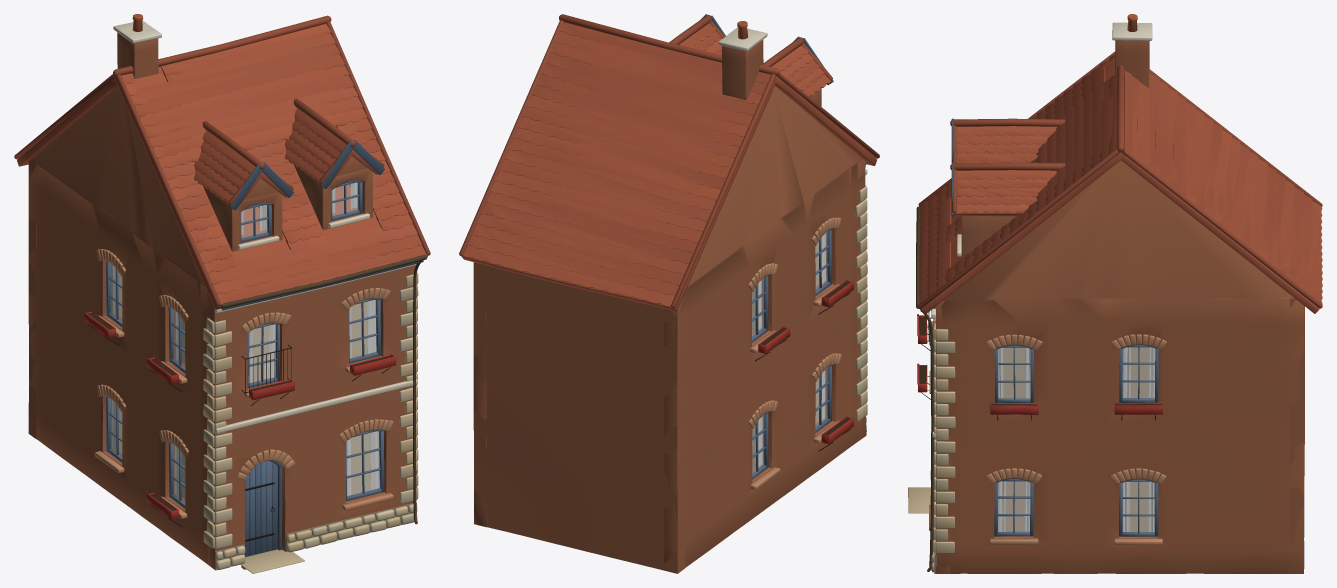
Rendered from GateStreet_Bend4.glb.
3 renders of one model, left to right at view 1: azimuth 30°, elevation 25°; view 2: azimuth 150°, elevation 25°; view 3: azimuth 270°, elevation 25°, orthographic. The views are drawn at different scales.
Parts seen in each view (by area): view 1: Sammel Ziegel, Sammel Stein, Sammel Lack, Sammel Putz, Glas, Vorhang Leinen, Sammel Putz innen, Sammel Metall; view 2: Sammel Ziegel, Sammel Stein, Sammel Lack, Sammel Putz, Glas, Vorhang Leinen, Sammel Putz innen; view 3: Sammel Ziegel, Sammel Stein, Glas, Sammel Lack, Sammel Putz, Sammel Putz innen, Vorhang Leinen, Sammel Metall.
Part boxes in pixels (x1,y1,x2,y2): Sammel Ziegel: (28, 32, 416, 569); Sammel Stein: (14, 15, 430, 573); Sammel Lack: (83, 140, 423, 556); Sammel Putz: (88, 14, 417, 570); Glas: (110, 182, 379, 502); Vorhang Leinen: (112, 182, 379, 496); Sammel Putz innen: (118, 273, 370, 498); Sammel Metall: (88, 254, 427, 541); Sammel Ziegel: (473, 40, 865, 573); Sammel Stein: (459, 14, 879, 431); Sammel Lack: (701, 14, 867, 479); Sammel Putz: (718, 21, 867, 489); Glas: (752, 232, 827, 473); Vorhang Leinen: (758, 233, 826, 466); Sammel Putz innen: (752, 241, 819, 469); Sammel Ziegel: (935, 40, 1304, 573); Sammel Stein: (908, 51, 1322, 572); Glas: (998, 347, 1154, 531); Sammel Lack: (917, 118, 1163, 536); Sammel Putz: (919, 14, 1166, 573); Sammel Putz innen: (1003, 347, 1148, 531); Vorhang Leinen: (998, 347, 1155, 531); Sammel Metall: (916, 206, 1155, 571).
Bounding box in the file's own units: 5.84 × 11.4 × 9.01.
